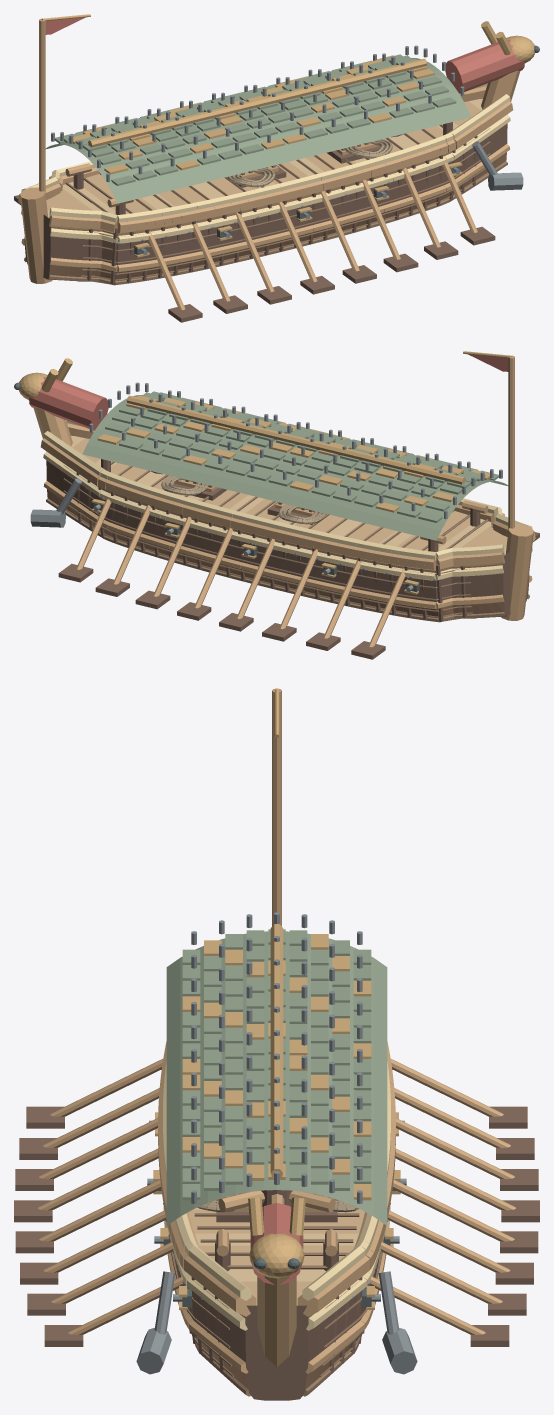
File: geobukseon-v5.glb
3 views of the same model, one above another, from view 1: azimuth 30°, elevation 25°; view 2: azimuth 150°, elevation 25°; view 3: azimuth 270°, elevation 25° (orthographic). The views are drawn at different scales.
Parts seen in each view (by area): view 1: geobukseon_deck_olive, geobukseon_hull_wood, geobukseon_hull_darkwood, geobukseon_hull_pale, geobukseon_deck_bronze, geobukseon_hull_seam, geobukseon_oars_wood, geobukseon_hull_deck, geobukseon_oars_darkwood, geobukseon_hull_hull, geobukseon_deck_iron, geobukseon_deck_red (+7 smaller); view 2: geobukseon_deck_olive, geobukseon_hull_wood, geobukseon_hull_darkwood, geobukseon_hull_pale, geobukseon_deck_bronze, geobukseon_hull_seam, geobukseon_oars_wood, geobukseon_hull_deck, geobukseon_oars_darkwood, geobukseon_hull_hull, geobukseon_deck_iron, geobukseon_deck_red (+7 smaller); view 3: geobukseon_deck_olive, geobukseon_oars_wood, geobukseon_deck_bronze, geobukseon_oars_darkwood, geobukseon_hull_wood, geobukseon_hull_darkwood, geobukseon_deck_iron, geobukseon_hull_pale, geobukseon_fittings_iron, geobukseon_hull_seam, geobukseon_hull_deck, geobukseon_flags_wood (+5 smaller).
Boxes of the visible parts, x1,y1,x2,y2 form: geobukseon_deck_olive: [45, 54, 471, 203]; geobukseon_hull_wood: [18, 70, 520, 283]; geobukseon_hull_darkwood: [24, 123, 507, 284]; geobukseon_hull_pale: [21, 83, 510, 243]; geobukseon_deck_bronze: [68, 21, 534, 174]; geobukseon_hull_seam: [24, 124, 507, 285]; geobukseon_oars_wood: [148, 162, 477, 310]; geobukseon_hull_deck: [46, 101, 481, 213]; geobukseon_oars_darkwood: [14, 195, 495, 322]; geobukseon_hull_hull: [49, 98, 507, 281]; geobukseon_deck_iron: [51, 45, 464, 182]; geobukseon_deck_red: [445, 38, 524, 93]; geobukseon_deck_olive: [82, 391, 508, 540]; geobukseon_hull_wood: [33, 407, 535, 620]; geobukseon_hull_darkwood: [46, 460, 529, 621]; geobukseon_hull_pale: [43, 420, 532, 580]; geobukseon_deck_bronze: [19, 358, 489, 512]; geobukseon_hull_seam: [46, 461, 529, 622]; geobukseon_oars_wood: [76, 499, 405, 647]; geobukseon_hull_deck: [72, 438, 507, 550]; geobukseon_oars_darkwood: [58, 532, 539, 659]; geobukseon_hull_hull: [46, 435, 504, 618]; geobukseon_deck_iron: [89, 382, 502, 519]; geobukseon_deck_red: [29, 375, 108, 430]; geobukseon_deck_olive: [166, 929, 387, 1225]; geobukseon_oars_wood: [38, 1059, 515, 1334]; geobukseon_deck_bronze: [182, 924, 371, 1278]; geobukseon_oars_darkwood: [14, 1106, 539, 1346]; geobukseon_hull_wood: [158, 1041, 395, 1373]; geobukseon_hull_darkwood: [174, 1255, 379, 1400]; geobukseon_deck_iron: [191, 912, 362, 1203]; geobukseon_hull_pale: [163, 1061, 390, 1330]; geobukseon_fittings_iron: [136, 1271, 417, 1374]; geobukseon_hull_seam: [171, 1200, 382, 1396]; geobukseon_hull_deck: [189, 1209, 364, 1305]; geobukseon_flags_wood: [272, 688, 281, 926].
Size of the model in its own units: 44.93 by 22.02 by 26.68.
